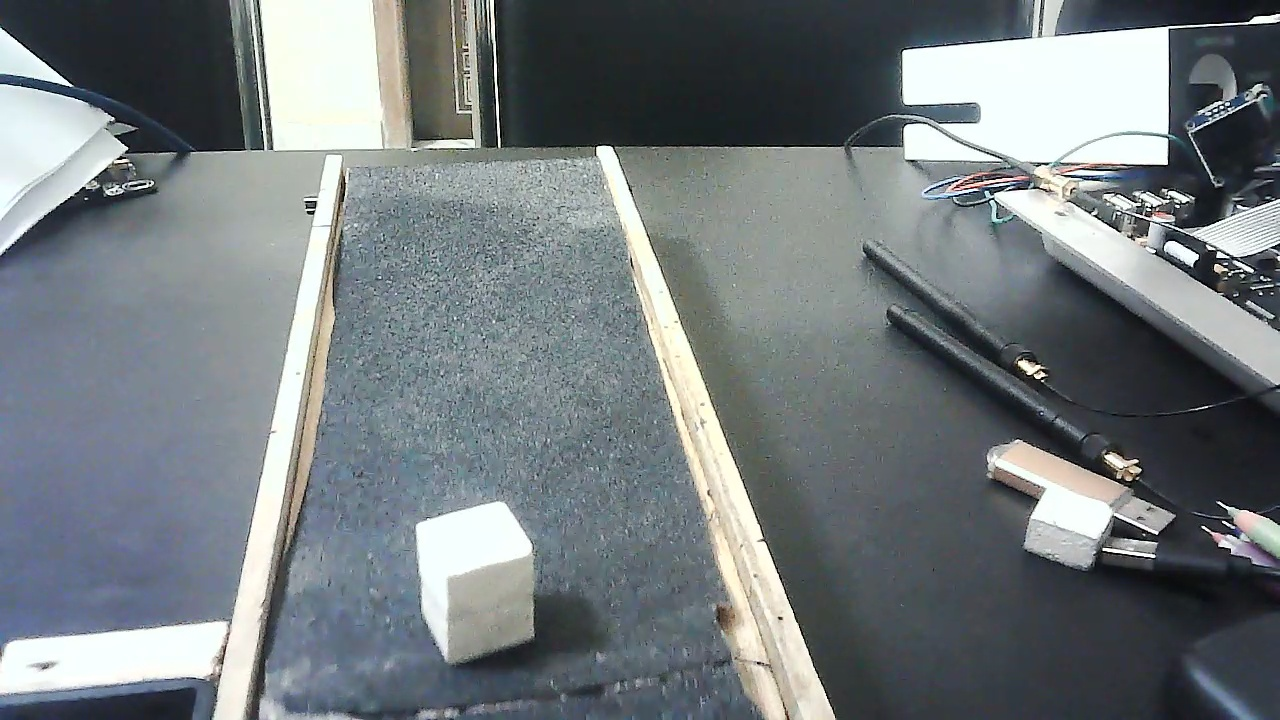Small: (394, 499, 557, 662)
